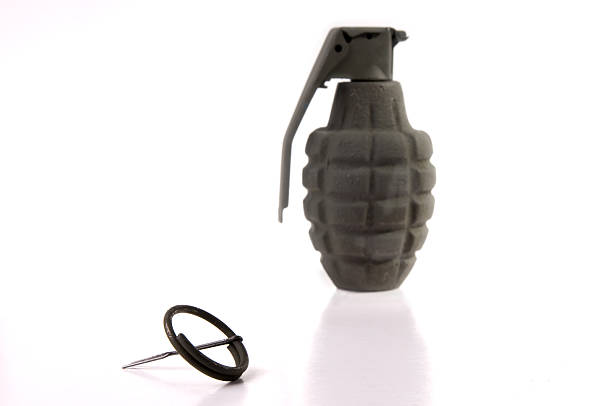e1: (274, 23, 440, 294)
